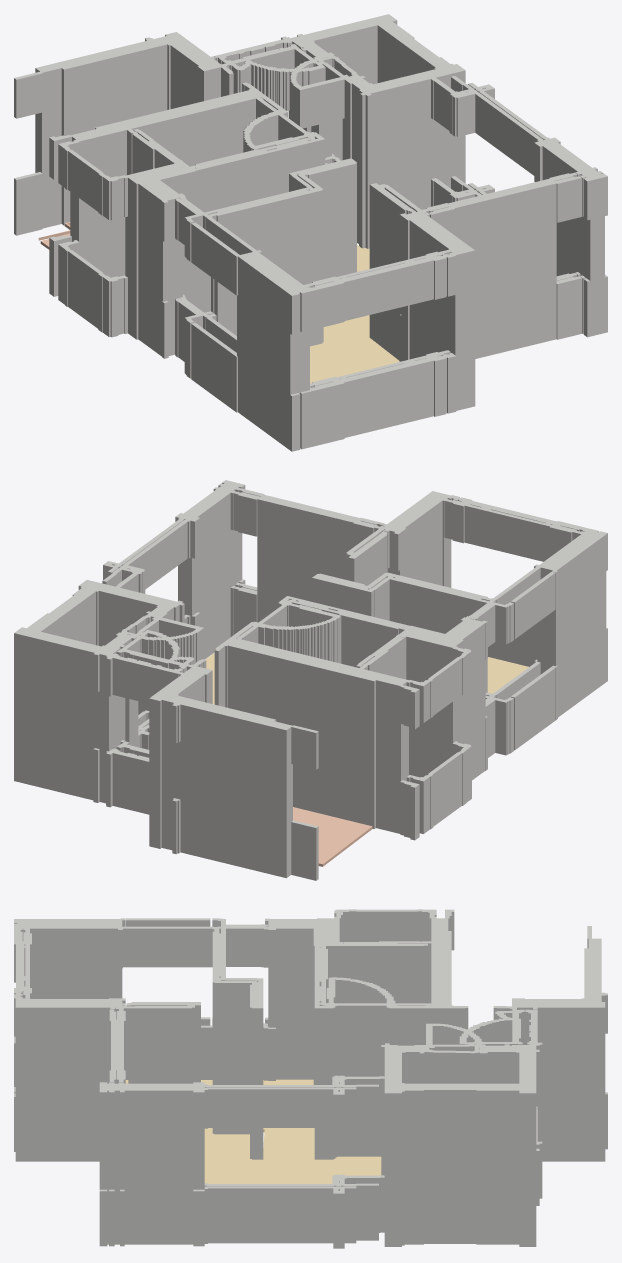
The picture shows the model from 3 angles, top to bottom: view 1: azimuth 30°, elevation 25°; view 2: azimuth 150°, elevation 25°; view 3: azimuth 270°, elevation 25°; orthographic projection. The views are drawn at different scales.
Visible parts, largest first — view 1: walls, room:living:2; view 2: walls, room:kitchen:0, room:living:2; view 3: walls, room:living:2.
Part boxes in pixels (x1,y1,x2,y2): walls: (14,14,607,451); room:living:2: (310,245,399,383); walls: (14,480,607,880); room:kitchen:0: (293,807,372,866); room:living:2: (205,653,528,704); walls: (14,909,607,1248); room:living:2: (125,1079,381,1183).
Size of the model in its own units: 7.23 by 2.8 by 9.79.
